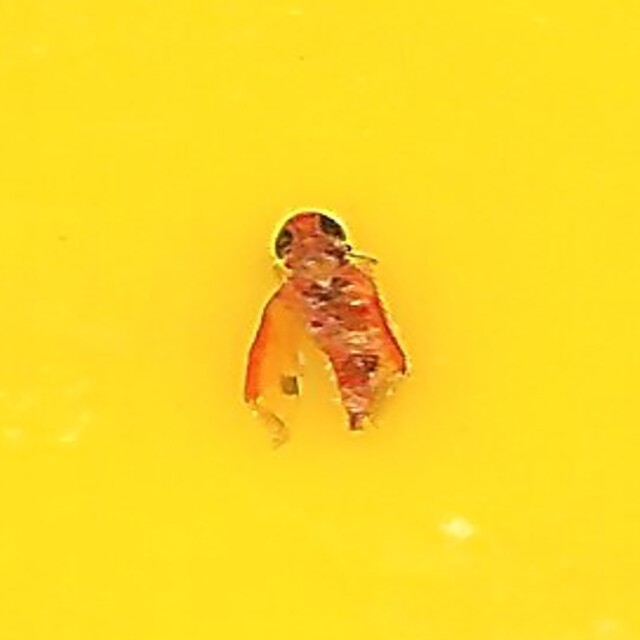Hemiptera: (235, 199, 405, 441)
